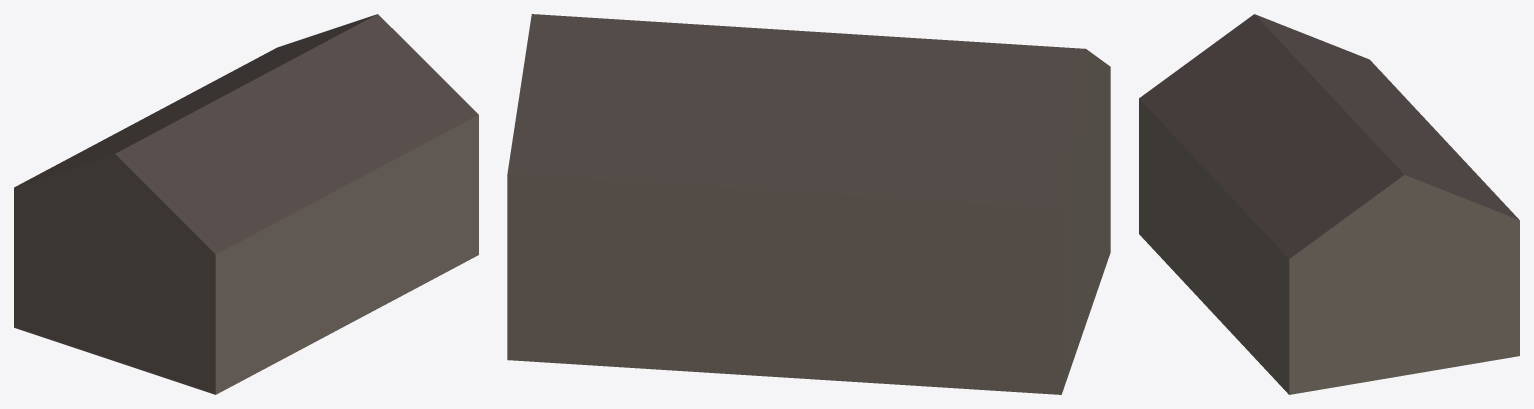
3 renders of one model, left to right at view 1: azimuth 30°, elevation 25°; view 2: azimuth 150°, elevation 25°; view 3: azimuth 270°, elevation 25°, orthographic. The views are drawn at different scales.
Visible parts, largest first — view 1: HP-w859082520; view 2: HP-w859082520; view 3: HP-w859082520.
Part boxes in pixels (x1,y1,x2,y2): HP-w859082520: (14, 14, 478, 394); HP-w859082520: (507, 14, 1110, 394); HP-w859082520: (1139, 14, 1519, 394).
Bounding box in the file's own units: 28.4 × 13.31 × 22.9.
